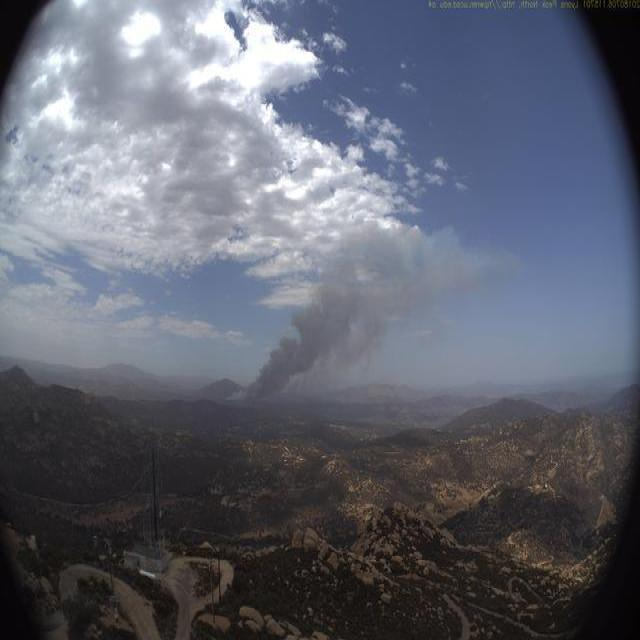Smoke: (228, 218, 481, 422)
